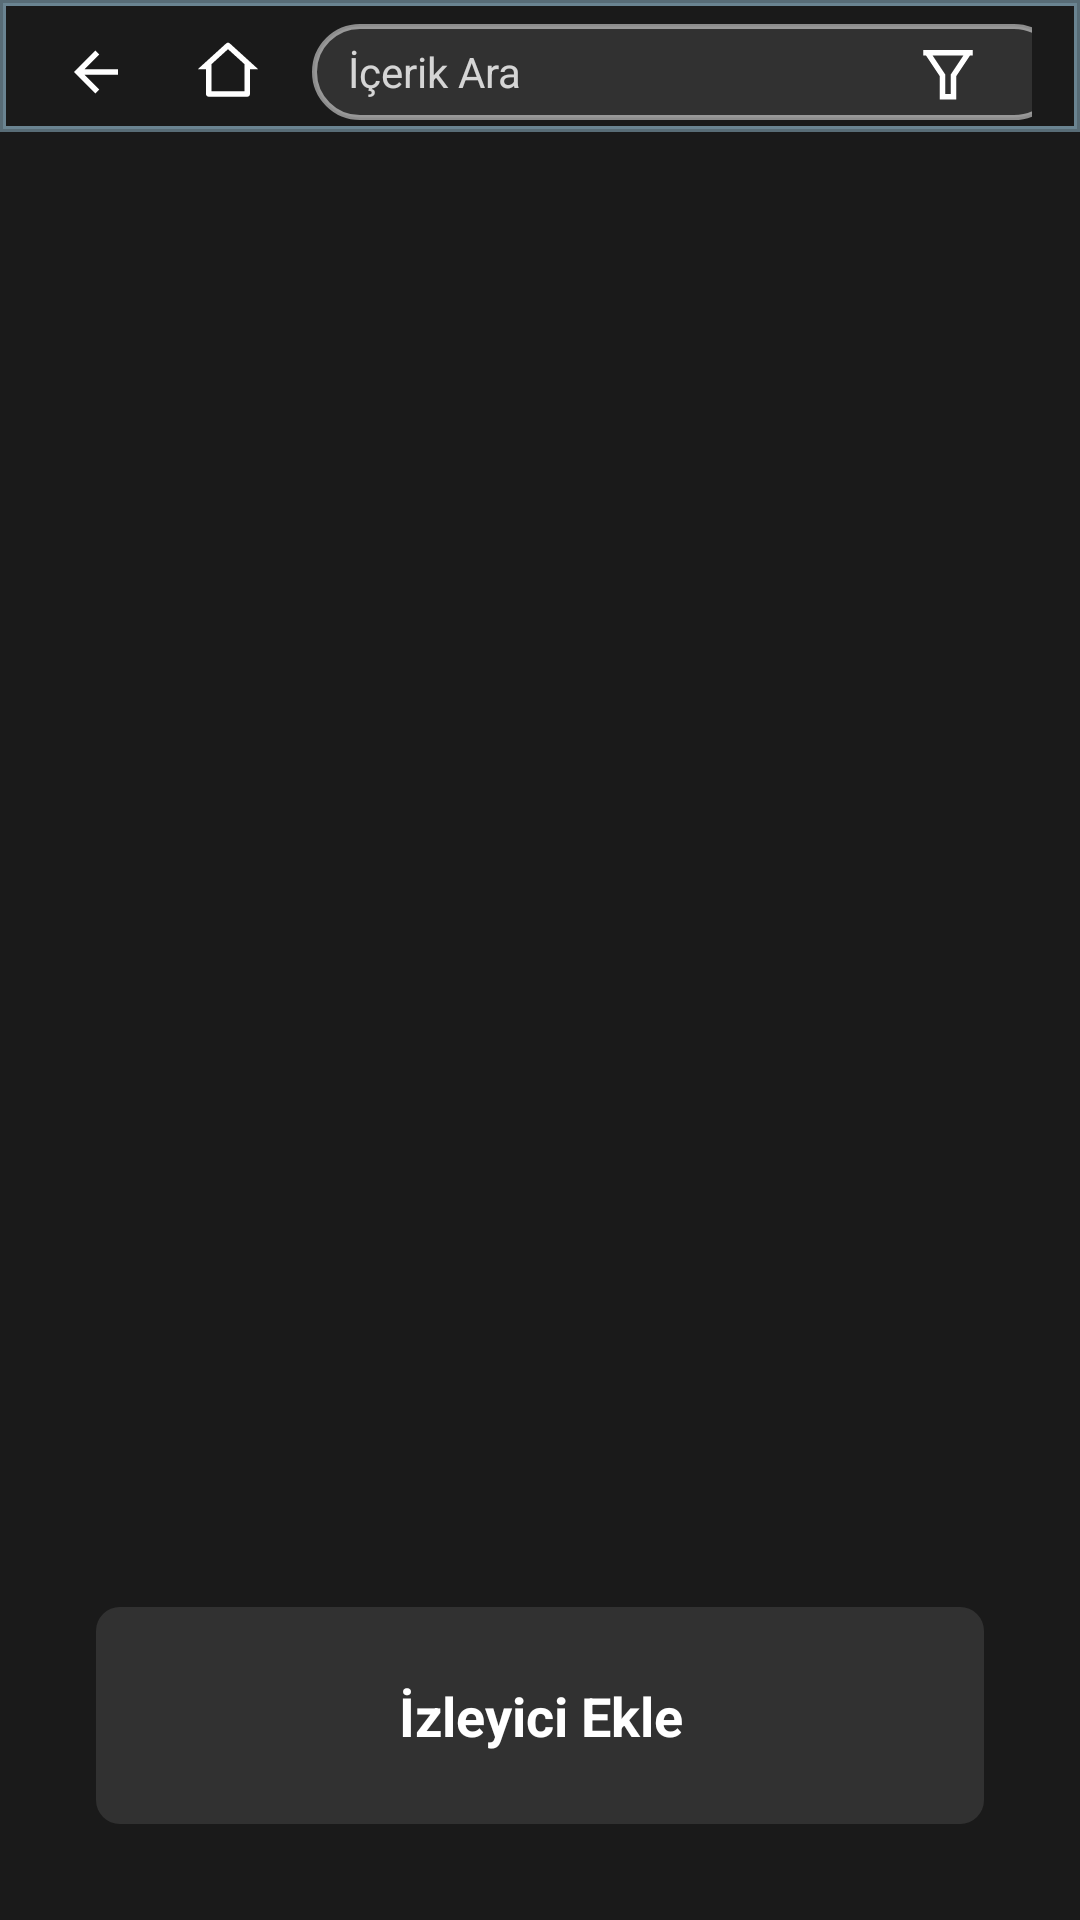

Where to tap for icons on this 1080px×1920px app screen, as [x,y]:
Ana sayfaya git: [228,69]
Filtre: [948,72]
Geri dön: [96,72]
